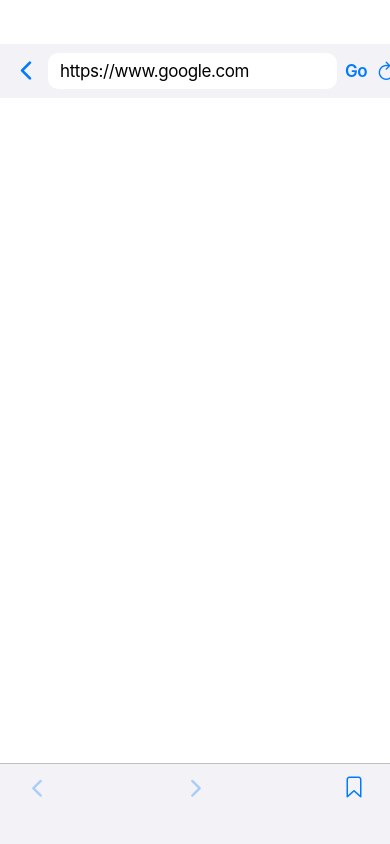
BrowserScreen — bookmarks list modal › opens the bookmarks list when the Bookmarks button is pressed
The image size is (390, 844).
Check: the text "Bookmarked" is not shown
Click the button named "Bookmarks": (354, 788) x1=342 y1=774 x2=366 y2=802
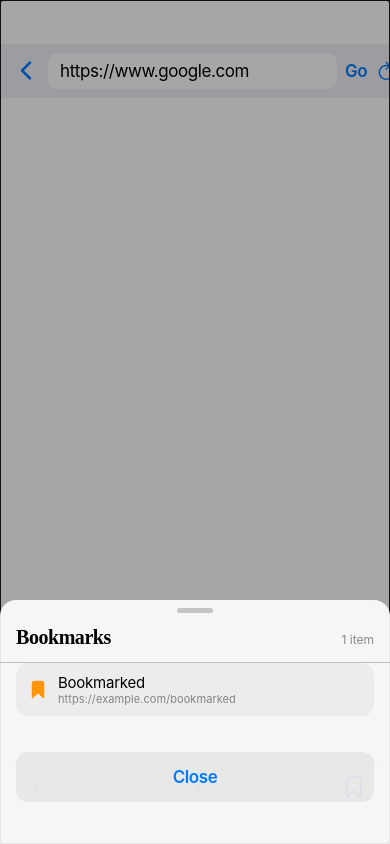
Check: the text "Bookmarked" is shown, box x1=58 y1=673 x2=145 y2=692
Check: the text "https://example.com/bookmarked" is shown, box x1=58 y1=692 x2=236 y2=706
